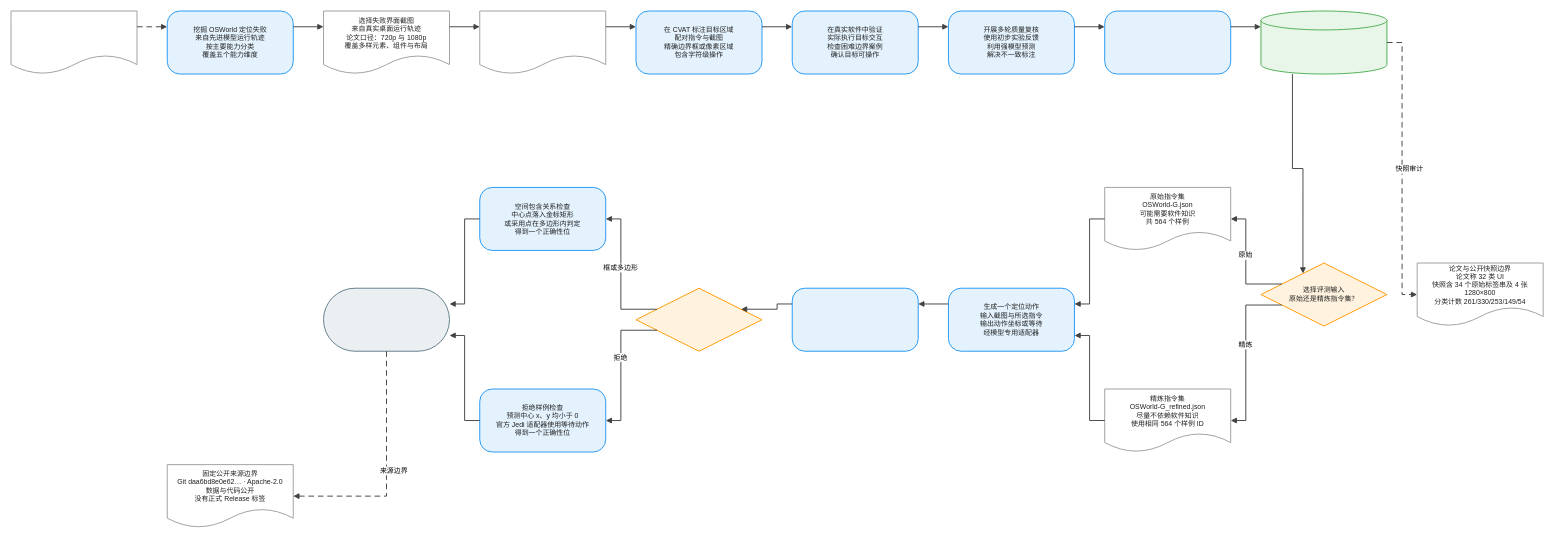
The diagram is 1555 pixels wide and 539 high, and some of its shapes have lost their labels. Each missing label, with the centre of its shape:
"专家编写操作指令 标注员熟悉相关软件 描述具体底层动作 目标唯一且无歧义" belongs at (x=542, y=42).
"发布两份 564 行 JSON 原始与精炼指令 使用相同 ID 与图像 470 框 · 40 多边形 · 54 拒绝" belongs at (x=1323, y=42).
"固定论文证据 arXiv v3 · 2505.13227 PDF SHA-256 60698468c8c1… 第 2.1 节 · 附录 A.1" belongs at (x=73, y=42).
"归一化预测坐标 必须提供四个坐标值 从模型图像尺寸缩放 取预测框中心点" belongs at (x=854, y=319).
"报告准确率 总体为正确数 ÷ 564 按能力分组报告 各能力类别可重叠" belongs at (x=386, y=319).
"补充每个样例 标注细粒度 UI 类型 精炼指令拆解界面知识 每例约 0.5 人时" belongs at (x=1167, y=42).
"金标类型是什么？ 矩形框 · 多边形 · 拒绝" belongs at (x=698, y=319).
